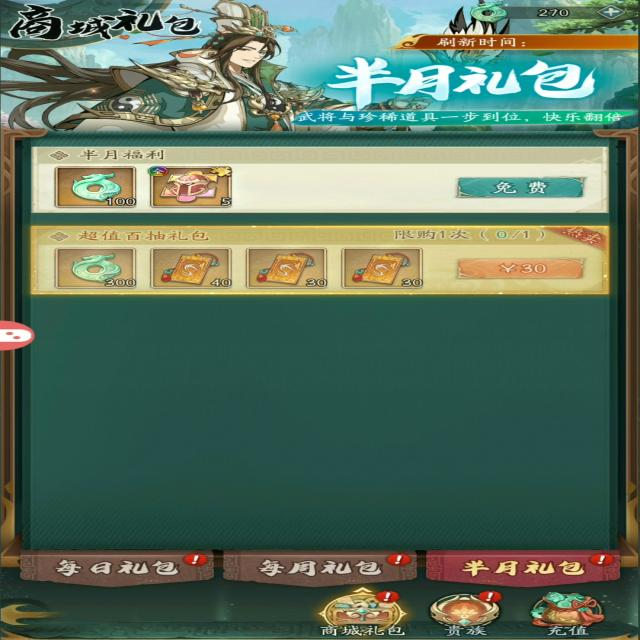hint-reddot: (585, 552, 620, 568), (468, 590, 512, 602), (178, 551, 213, 565), (379, 554, 417, 566), (379, 586, 401, 604)
operation-DailyGiftPack: (6, 550, 219, 592)
operation-HalfMonthGiftPack: (440, 549, 620, 585)
operation-ShoppingMallGift: (308, 585, 417, 639)
operation-Vip: (424, 591, 518, 635)
operation-WeeklyGiftPack: (231, 549, 397, 586)
operation-back: (0, 601, 97, 633)
operation-buy: (446, 256, 594, 286), (444, 171, 590, 200)
operation-recharge: (532, 590, 604, 639)
ref-buytext: (67, 228, 227, 245), (57, 141, 178, 163)
